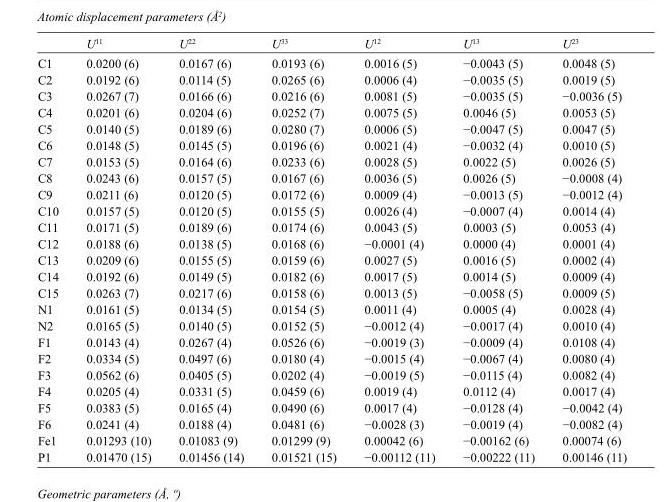table: (36, 36, 626, 463)
table column: (349, 36, 448, 463), (448, 36, 547, 463), (71, 36, 164, 463), (164, 36, 257, 463), (257, 36, 349, 463), (547, 36, 626, 463), (36, 36, 71, 463)
table column header: (36, 36, 626, 53)
table row: (36, 53, 626, 71), (36, 36, 626, 53), (36, 87, 626, 104), (36, 136, 626, 153), (36, 169, 626, 186), (36, 218, 626, 235), (36, 251, 626, 268), (36, 284, 626, 301), (36, 333, 626, 350), (36, 366, 626, 383), (36, 415, 626, 432), (36, 71, 626, 87), (36, 104, 626, 120), (36, 120, 626, 136), (36, 153, 626, 169), (36, 186, 626, 202), (36, 202, 626, 218), (36, 235, 626, 251), (36, 268, 626, 284), (36, 301, 626, 317), (36, 317, 626, 333), (36, 350, 626, 366), (36, 383, 626, 399), (36, 399, 626, 415), (36, 432, 626, 448), (36, 448, 626, 463)
